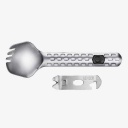fork: (4, 41, 122, 81)
